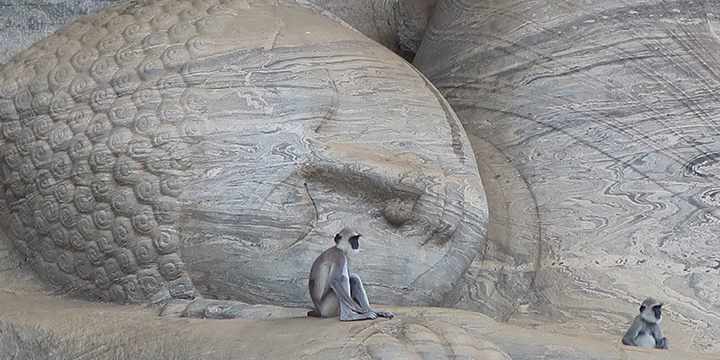Monkey: (297, 223, 401, 329), (619, 291, 680, 360)
